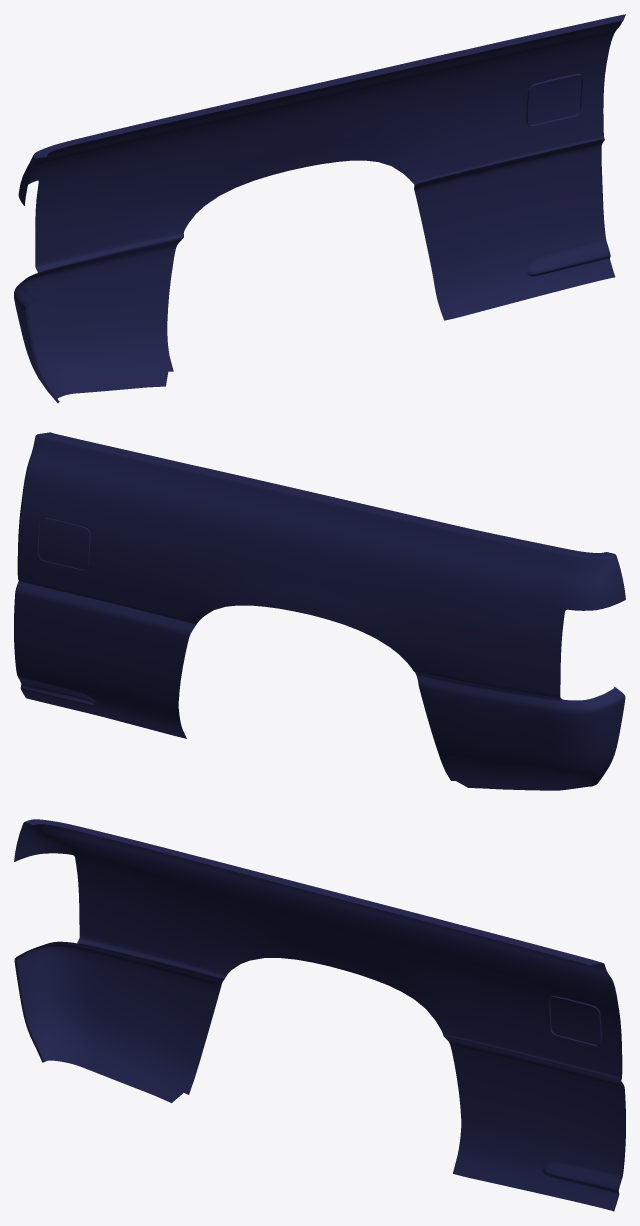
3 views of the same model, one above another, from view 1: azimuth 30°, elevation 25°; view 2: azimuth 150°, elevation 25°; view 3: azimuth 330°, elevation 25° (orthographic). The views are drawn at different scales.
Parts seen in each view (by area): view 1: U803_3A_38AL_L_1_DaS_U803_3A_38AL_L, U803_3A_38AL_L_1_DaS_U803_3A_38AL_L_E; view 2: U803_3A_38AL_L_1_DaS_U803_3A_38AL_L, U803_3A_38AL_L_1_DaS_U803_3A_38AL_L_E; view 3: U803_3A_38AL_L_1_DaS_U803_3A_38AL_L, U803_3A_38AL_L_1_DaS_U803_3A_38AL_L_E.
Part boxes in pixels (x1,y1,x2,y2): U803_3A_38AL_L_1_DaS_U803_3A_38AL_L: [14, 14, 623, 398]; U803_3A_38AL_L_1_DaS_U803_3A_38AL_L_E: [23, 14, 625, 402]; U803_3A_38AL_L_1_DaS_U803_3A_38AL_L: [15, 433, 625, 790]; U803_3A_38AL_L_1_DaS_U803_3A_38AL_L_E: [14, 432, 615, 700]; U803_3A_38AL_L_1_DaS_U803_3A_38AL_L: [14, 819, 624, 1210]; U803_3A_38AL_L_1_DaS_U803_3A_38AL_L_E: [14, 853, 625, 1211].
Size of the model in its own units: 189 by 83.74 by 20.16.
